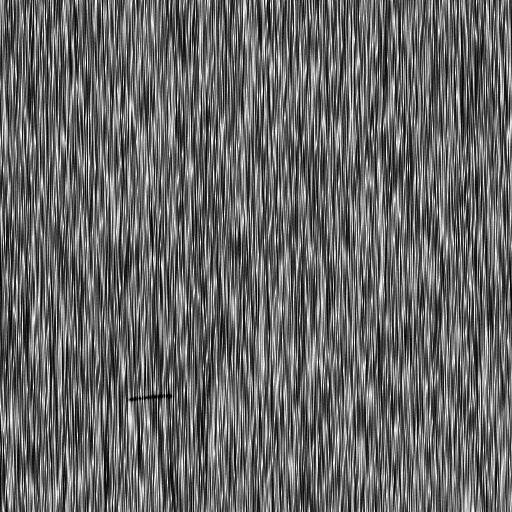DefectTypeC: (129, 392, 172, 404)
